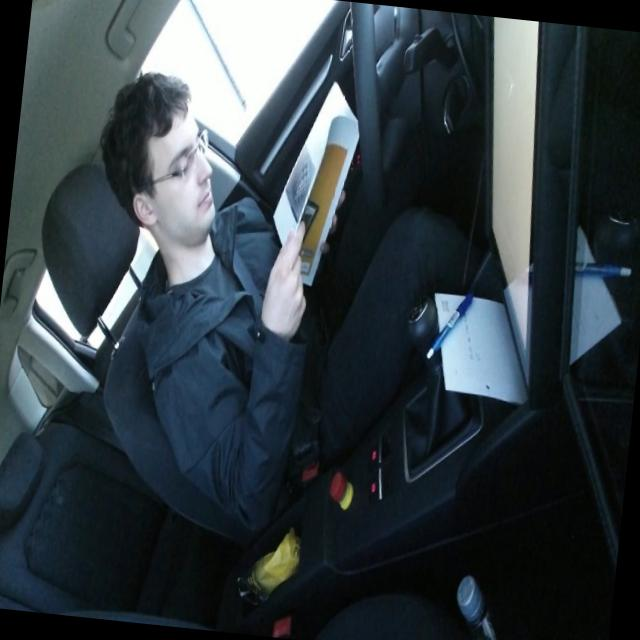pen: (424, 286, 474, 363)
